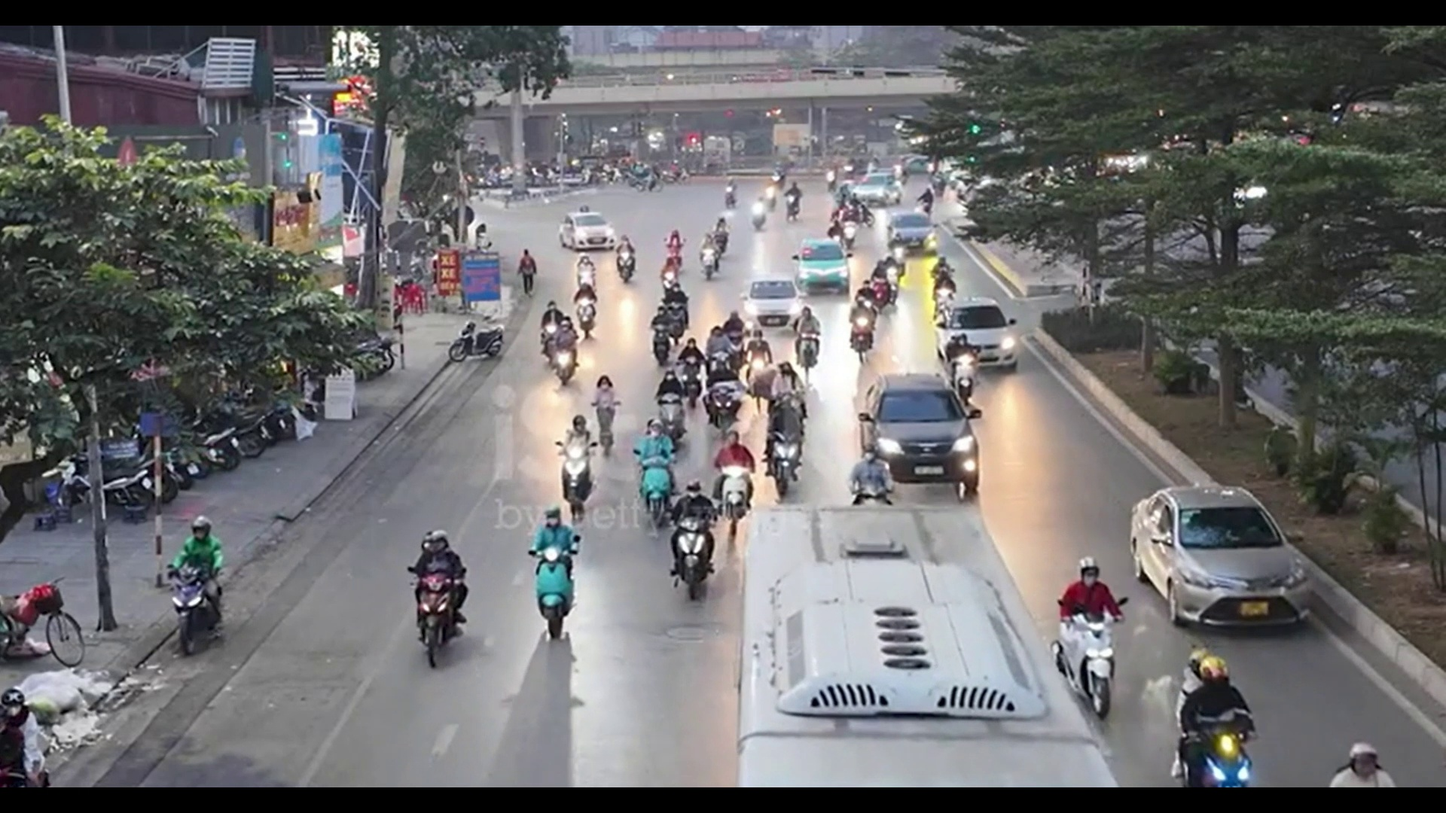car: (1128, 483, 1304, 626), (869, 374, 976, 479), (941, 302, 1020, 371), (742, 275, 808, 331), (794, 241, 850, 297), (560, 210, 618, 253), (885, 210, 934, 249)
motorcycle: (0, 580, 88, 668), (1053, 610, 1119, 721), (164, 563, 227, 657), (666, 495, 720, 601), (413, 571, 469, 670), (533, 541, 578, 644)
